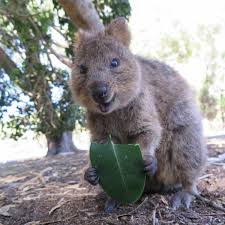quokka: (65, 21, 206, 204)
